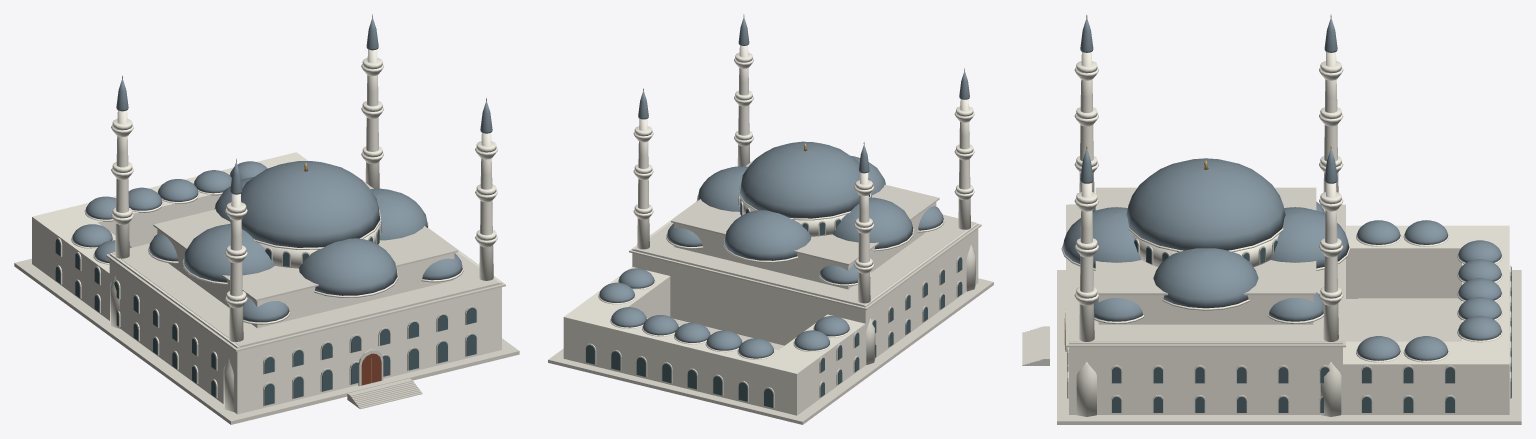
File: namazgah-far.glb
The picture shows the model from 3 angles, left to right: view 1: azimuth 30°, elevation 25°; view 2: azimuth 150°, elevation 25°; view 3: azimuth 270°, elevation 25°; orthographic projection. The views are drawn at different scales.
Parts seen in each view (by area): view 1: namazgah-far-marble, namazgah-far-lead, namazgah-far-stone, namazgah-far-glass, namazgah-far-wood; view 2: namazgah-far-marble, namazgah-far-lead, namazgah-far-stone, namazgah-far-glass; view 3: namazgah-far-marble, namazgah-far-lead, namazgah-far-stone, namazgah-far-glass.
Part boxes in pixels (box(x1,y1,x2,y2)): namazgah-far-marble: box(32, 49, 501, 414); namazgah-far-lead: box(72, 18, 492, 322); namazgah-far-stone: box(14, 181, 519, 424); namazgah-far-glass: box(55, 221, 476, 405); namazgah-far-wood: box(361, 353, 381, 385); namazgah-far-marble: box(563, 45, 978, 415); namazgah-far-lead: box(599, 17, 969, 358); namazgah-far-stone: box(548, 154, 993, 424); namazgah-far-glass: box(586, 195, 962, 407); namazgah-far-marble: box(1061, 52, 1509, 416); namazgah-far-lead: box(1062, 18, 1501, 360); namazgah-far-stone: box(1022, 187, 1521, 424); namazgah-far-glass: box(1067, 240, 1511, 412).
Bounding box in the file's own units: 60 × 50 × 83.84.
